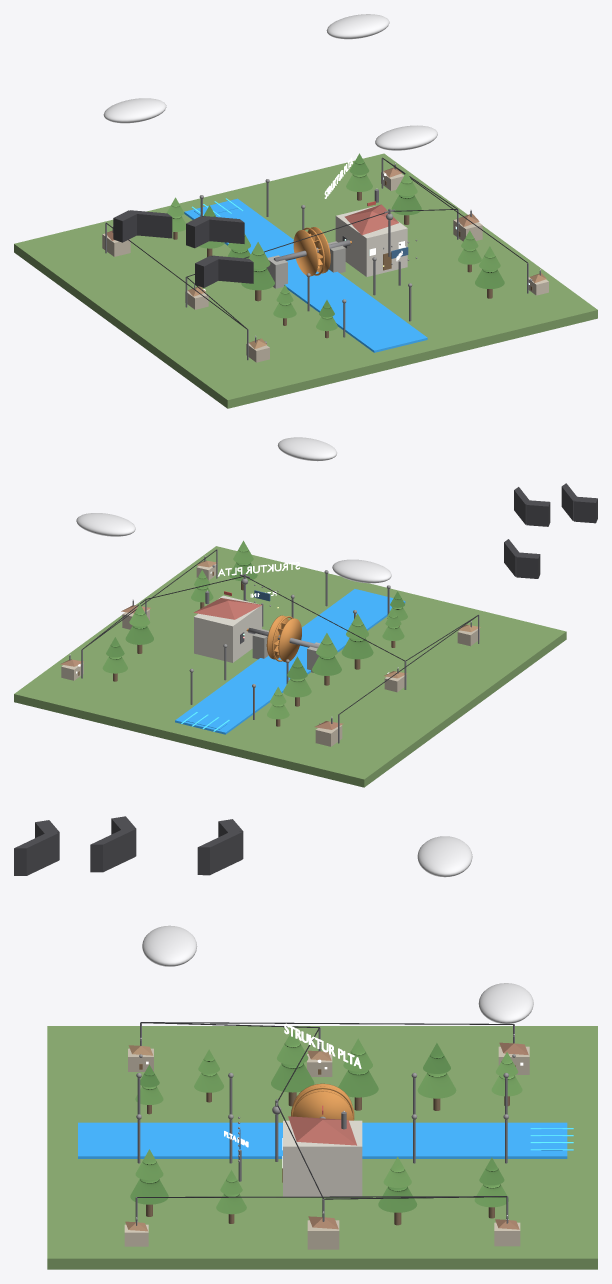
Rendered from PLTAOK.glb.
The picture shows the model from 3 angles, top to bottom: view 1: azimuth 30°, elevation 25°; view 2: azimuth 150°, elevation 25°; view 3: azimuth 270°, elevation 25°; orthographic projection. The views are drawn at different scales.
Parts seen in each view (by area): view 1: Struktur_PLTA, Turbin, Burung_3, Burung_1, Burung_2, Awan_2, Awan_1, Awan_3; view 2: Struktur_PLTA, Turbin, Awan_1, Awan_2, Awan_3, Burung_2, Burung_1, Burung_3; view 3: Struktur_PLTA, Burung_2, Awan_2, Burung_3, Awan_1, Awan_3, Turbin, Burung_1, Label_STRUKTUR_PLTA.
Boxes of the visible parts, x1,y1,x2,y2 form: Struktur_PLTA: [14, 153, 597, 408]; Turbin: [273, 227, 350, 276]; Burung_3: [113, 210, 172, 242]; Burung_1: [195, 255, 253, 287]; Burung_2: [186, 216, 244, 248]; Awan_2: [375, 125, 437, 150]; Awan_1: [103, 98, 166, 123]; Awan_3: [326, 14, 389, 39]; Struktur_PLTA: [14, 540, 566, 787]; Turbin: [248, 615, 319, 662]; Awan_1: [332, 559, 391, 583]; Awan_2: [277, 437, 336, 461]; Awan_3: [76, 513, 135, 536]; Burung_2: [514, 487, 550, 526]; Burung_1: [561, 483, 597, 523]; Burung_3: [504, 539, 540, 578]; Struktur_PLTA: [47, 1022, 597, 1269]; Burung_2: [90, 816, 136, 872]; Awan_2: [142, 925, 197, 966]; Burung_3: [197, 819, 243, 875]; Awan_1: [417, 836, 472, 877]; Awan_3: [478, 983, 533, 1023]; Turbin: [291, 1083, 354, 1120]; Burung_1: [14, 820, 59, 875]; Label_STRUKTUR_PLTA: [284, 1023, 361, 1068].
Size of what is drawn, in the model's own units: 20.06 by 8.71 by 19.09.
